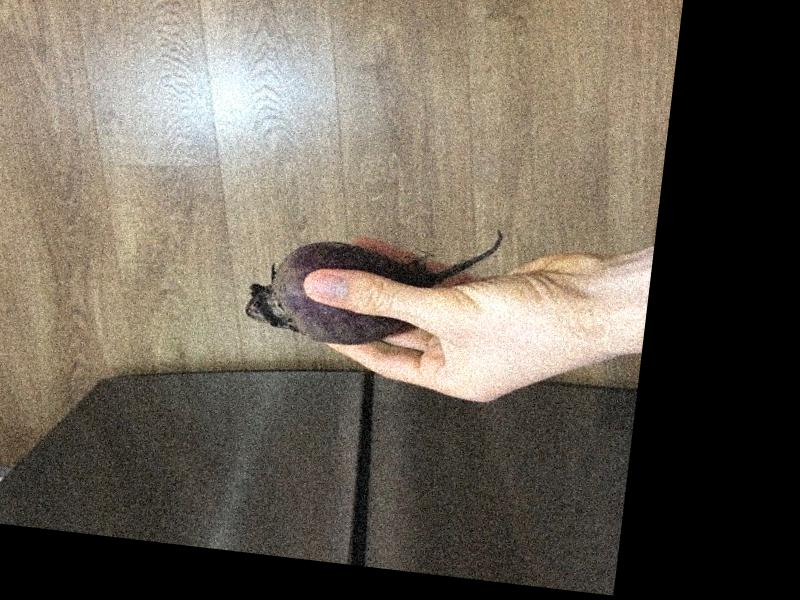Beet: (240, 201, 500, 362)
